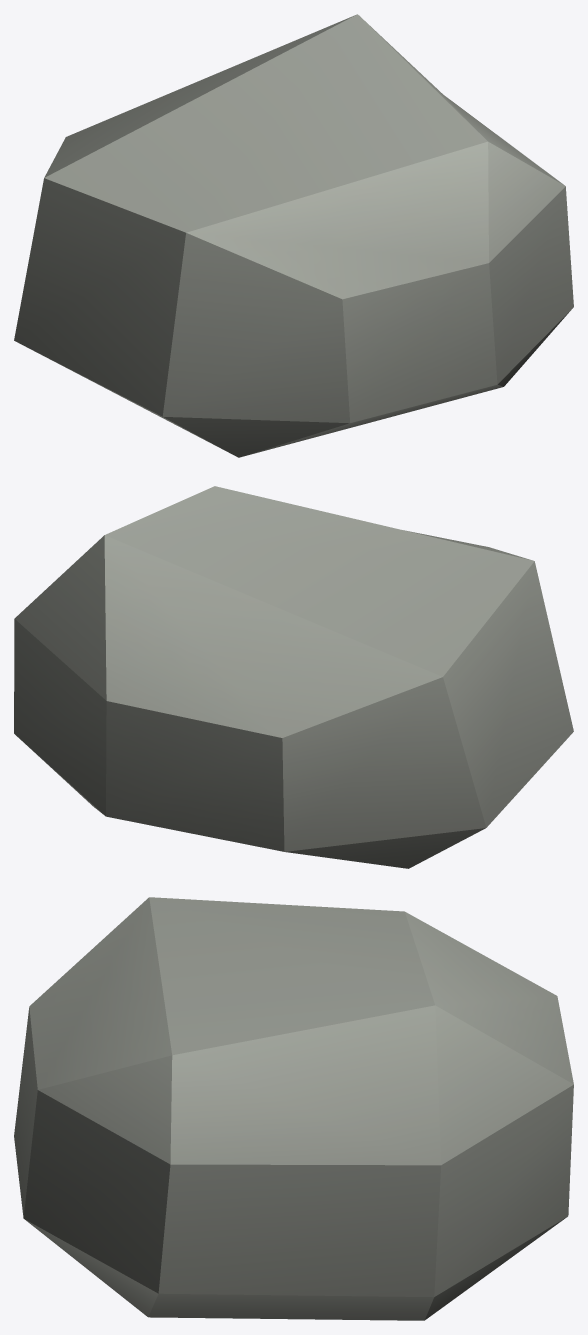
The model's file is Pebble_C.fbx.
The picture shows the model from 3 angles, top to bottom: view 1: azimuth 30°, elevation 25°; view 2: azimuth 150°, elevation 25°; view 3: azimuth 270°, elevation 25°; orthographic projection. The views are drawn at different scales.
Parts seen in each view (by area): view 1: Pebble_C; view 2: Pebble_C; view 3: Pebble_C.
Part boxes in pixels (<box>): Pebble_C: <box>14,14,573,457</box>; Pebble_C: <box>14,486,573,868</box>; Pebble_C: <box>14,897,573,1320</box>.
Bounding box in the file's own units: 9.31 × 5.49 × 9.09.
